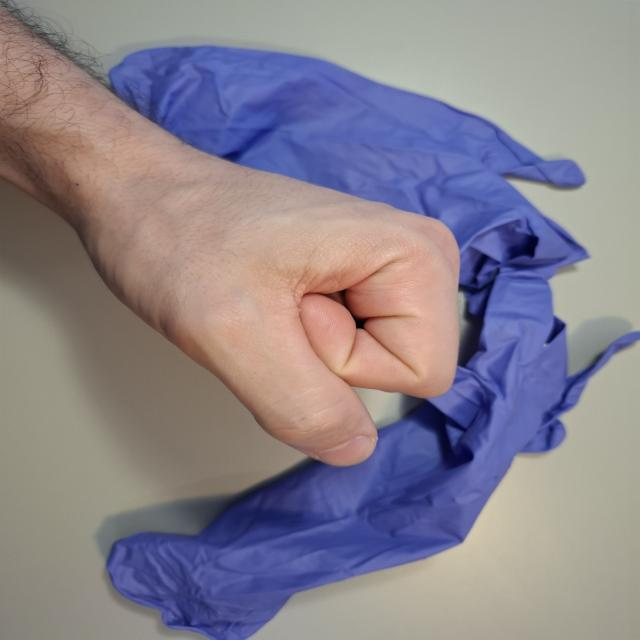glove_off: (60, 149, 463, 471)
